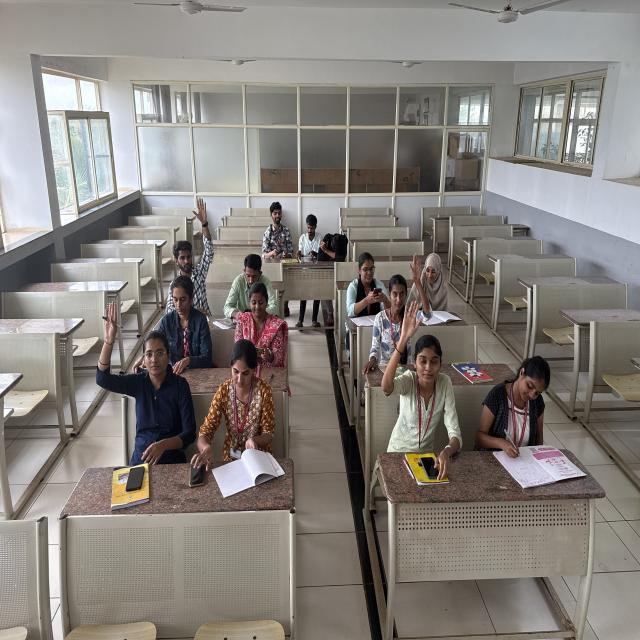Hand Rising: (89, 298, 194, 465), (377, 295, 468, 474), (372, 251, 430, 371), (166, 197, 219, 297)
Reading: (196, 340, 286, 494), (414, 248, 454, 323), (297, 210, 322, 266)
Sleeping: (319, 228, 351, 262)
Using Phone: (143, 273, 211, 372), (232, 273, 291, 369), (225, 252, 282, 330), (345, 250, 393, 326), (260, 200, 294, 258)
Writing: (476, 346, 573, 492)
